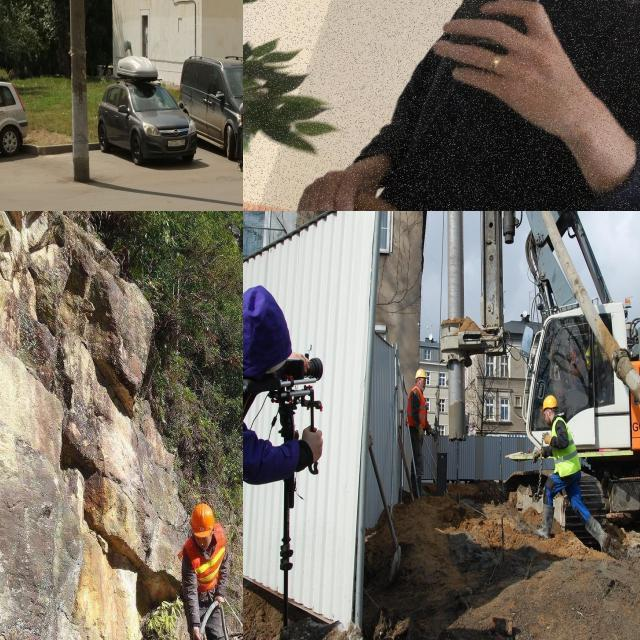boots: (584, 514, 615, 557), (533, 503, 554, 540)
face_nomask: (191, 530, 214, 549)
hand_glove: (415, 422, 428, 444), (428, 421, 441, 440)
hand_noglove: (301, 422, 328, 470), (292, 349, 312, 375), (189, 620, 207, 640), (214, 597, 228, 612), (543, 429, 550, 447)
head_helmet: (188, 503, 215, 535), (540, 394, 560, 412), (414, 368, 428, 381)
person: (398, 0, 640, 211), (243, 287, 286, 607), (540, 395, 610, 552), (181, 500, 233, 640), (404, 364, 428, 498)
vest: (554, 422, 578, 479), (192, 553, 225, 593), (411, 386, 427, 424)
